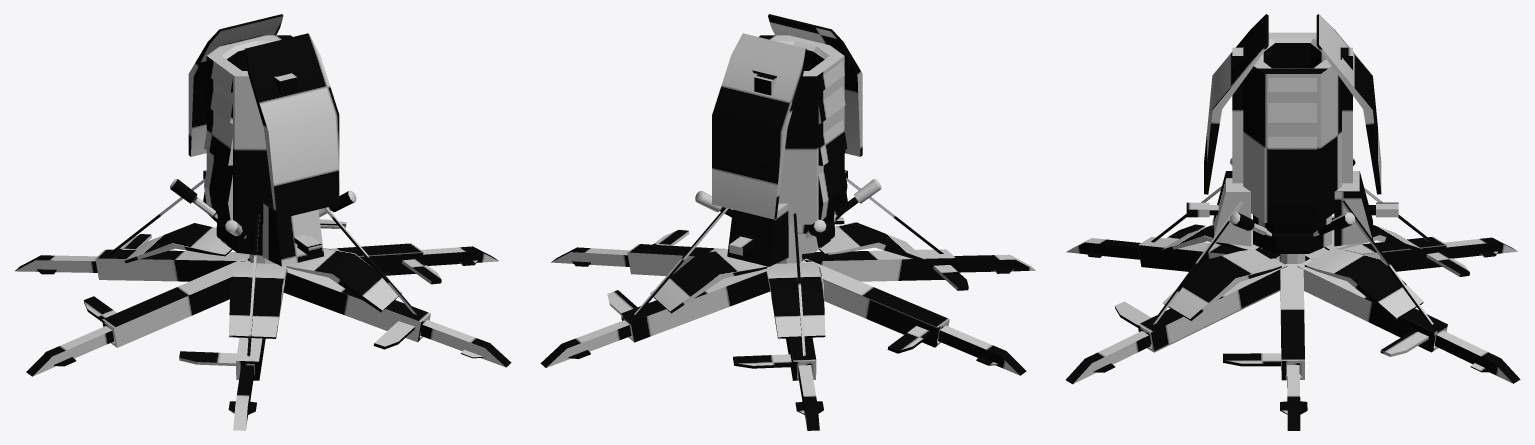
File: mordon.obj
The picture shows the model from 3 angles, left to right: view 1: azimuth 30°, elevation 25°; view 2: azimuth 150°, elevation 25°; view 3: azimuth 270°, elevation 25°; orthographic projection.
Visible parts, largest first — view 1: mordon; view 2: mordon; view 3: mordon.
Boxes of the visible parts, left/top/right/bottom form: mordon: left=15, top=14, right=511, bottom=430; mordon: left=540, top=14, right=1035, bottom=430; mordon: left=1066, top=14, right=1520, bottom=430.
Bounding box in the file's own units: 111 × 64.78 × 93.09.
Materials: 1 (1 with a texture image).
